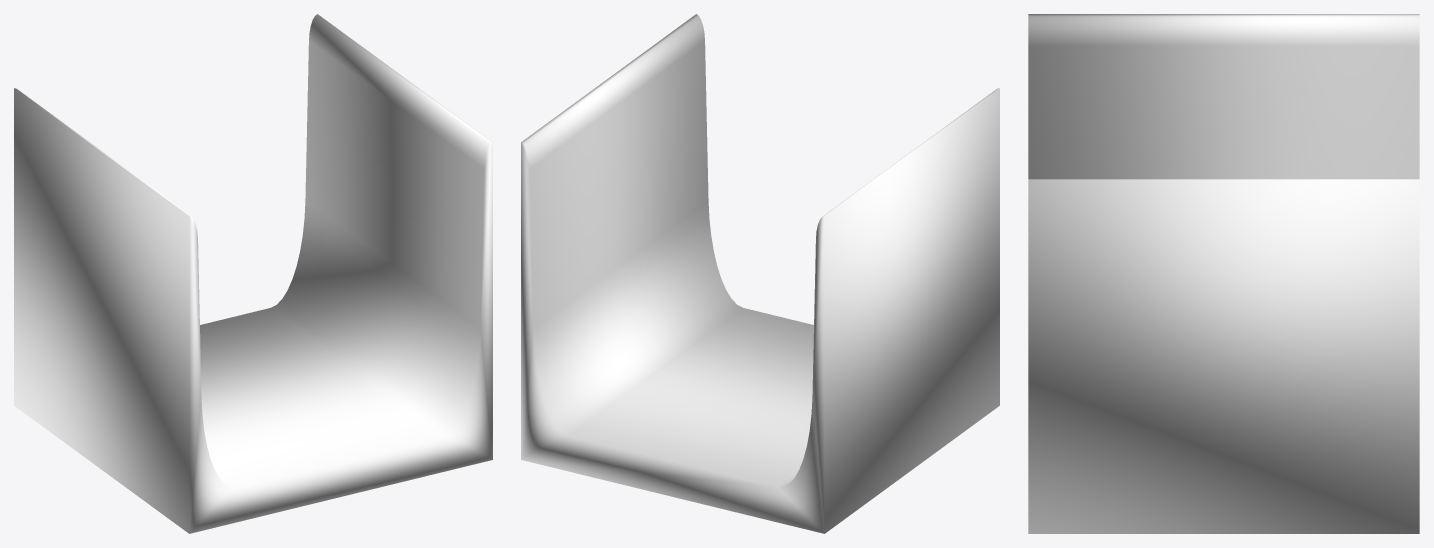
Rendered from caogang.obj.
3 views of the same model, side by side, from view 1: azimuth 30°, elevation 25°; view 2: azimuth 150°, elevation 25°; view 3: azimuth 270°, elevation 25° (orthographic). The views are drawn at different scales.
Size of the model in its own units: 1 by 1 by 1.
1 material, 1 textured.
